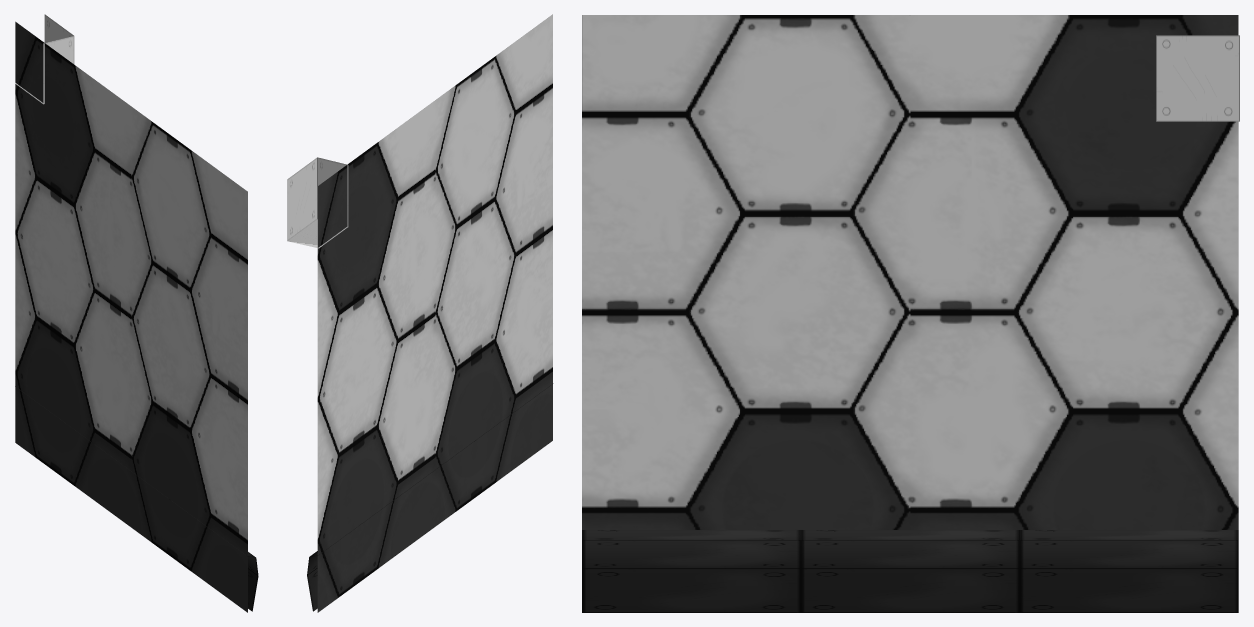
File: Wall_BottomRCorner.fbx
3 renders of one model, left to right at view 1: azimuth 30°, elevation 25°; view 2: azimuth 150°, elevation 25°; view 3: azimuth 270°, elevation 25°, orthographic. The views are drawn at different scales.
Visible parts, largest first — view 1: Wall_BottomRCorner1; view 2: Wall_BottomRCorner1; view 3: Wall_BottomRCorner1.
Boxes of the visible parts, left/top/right/bottom form: Wall_BottomRCorner1: left=15, top=14, right=258, bottom=612; Wall_BottomRCorner1: left=287, top=14, right=553, bottom=612; Wall_BottomRCorner1: left=582, top=15, right=1239, bottom=612.
Bounding box in the file's own units: 0.1534 × 2 × 2.
